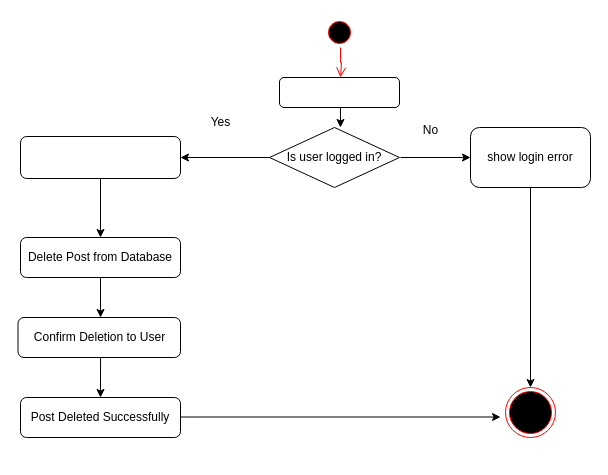
Some shapes in this 608 by 475 pixel diagram are drawn without their labels. The box of each missing label's shape, as (x1, y1, x2, y2) in pixels:
Log in to system: (278, 76, 400, 108)
User Selects Post to Delete: (20, 136, 180, 178)
